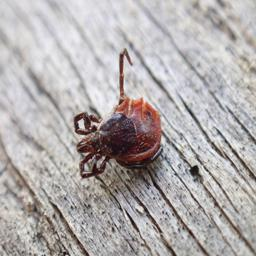Ixodes scapularis: (75, 50, 163, 179)
